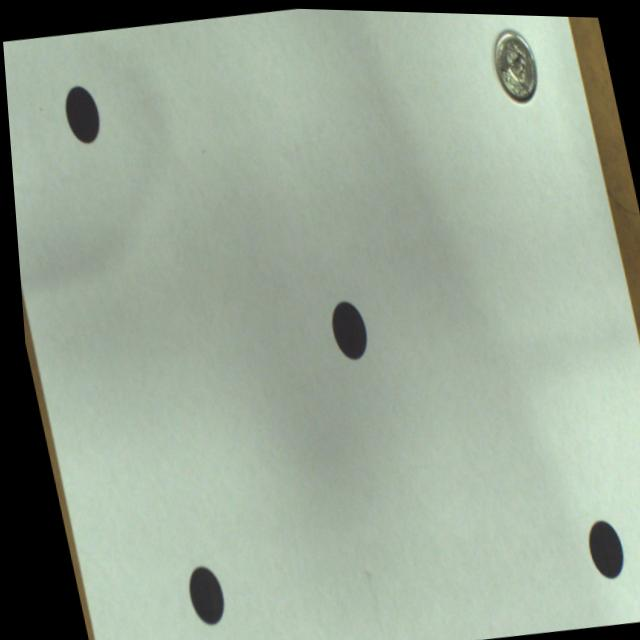head1bath: (494, 28, 536, 98)
space: (180, 564, 215, 623), (580, 516, 615, 574), (327, 300, 362, 357), (64, 87, 98, 142)
